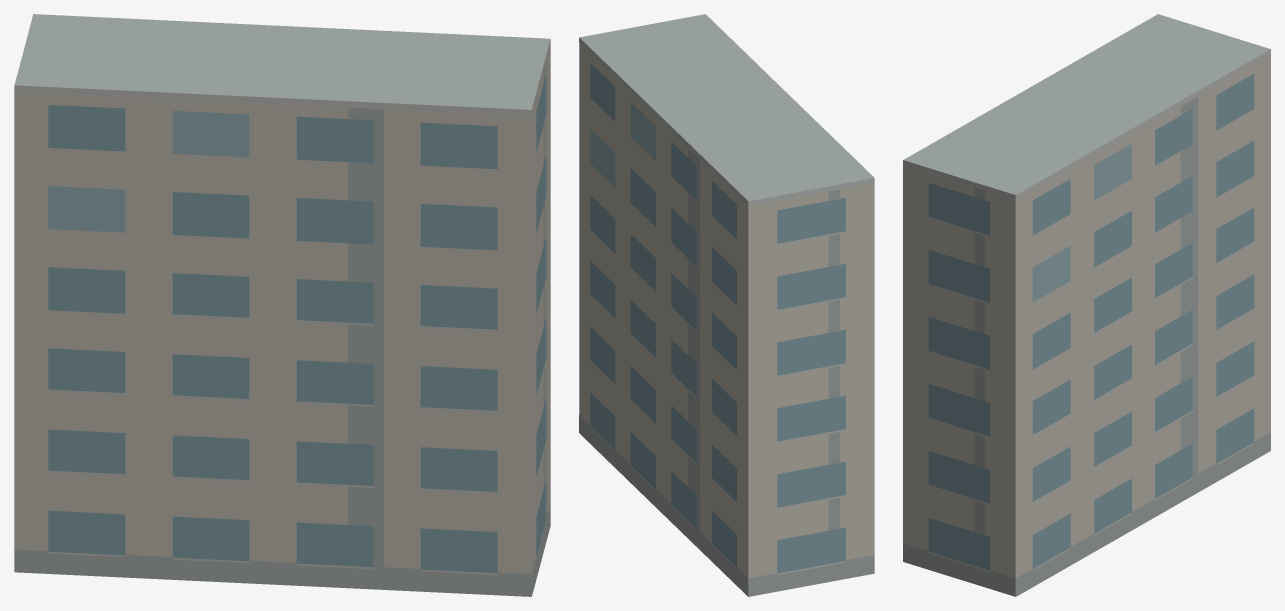
Rendered from survey-upis-32630898.glb.
The picture shows the model from 3 angles, left to right: view 1: azimuth 30°, elevation 25°; view 2: azimuth 150°, elevation 25°; view 3: azimuth 270°, elevation 25°; orthographic projection. The views are drawn at different scales.
Parts seen in each view (by area): view 1: survey-upis-32630898.tmp; view 2: survey-upis-32630898.tmp; view 3: survey-upis-32630898.tmp.
Part boxes in pixels (x1,y1,x2,y2): survey-upis-32630898.tmp: (14, 14, 550, 596); survey-upis-32630898.tmp: (579, 14, 874, 596); survey-upis-32630898.tmp: (903, 14, 1270, 596).
Size of the model in its own units: 17.46 by 18.05 by 14.98.
